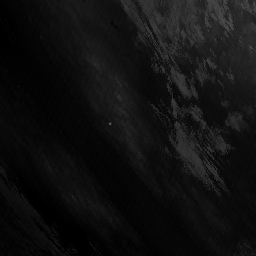Target: (108, 122, 112, 125)
